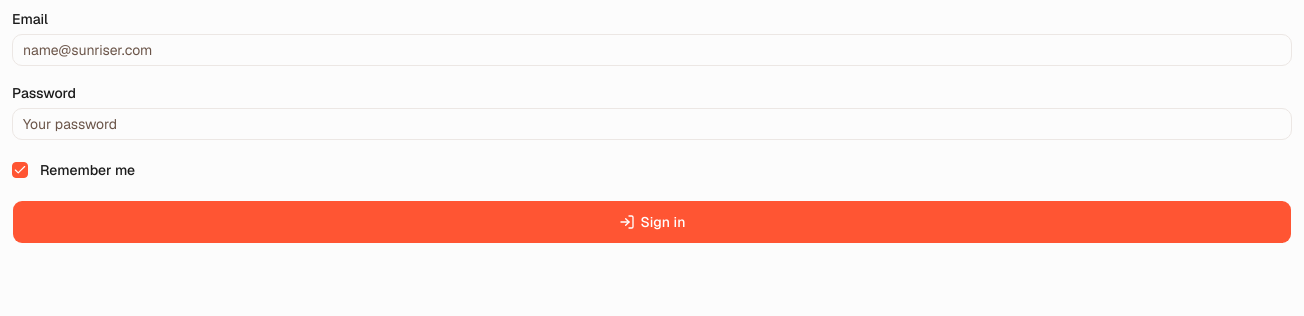
Scenario: LoginForm — 429 rate limiting › shows a friendly rate-limit message instead of the raw SDK string
The image size is (1304, 316).
Type "user@sunriser.com" into the field labelled "Email" at (652, 50), box 12,34 -> 1292,66
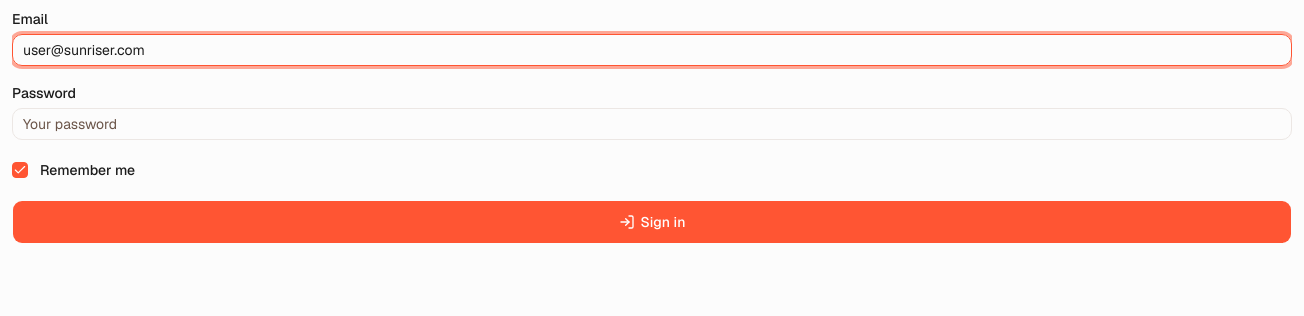
Type "password" into the password field labelled "Password" at (652, 124), box 12,108 -> 1292,140
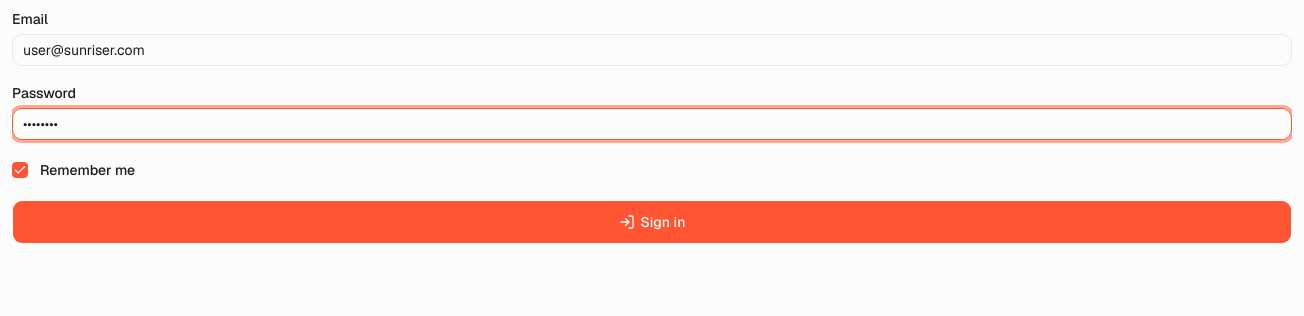
Click the button "Sign in" at (652, 222), box 12,200 -> 1292,244
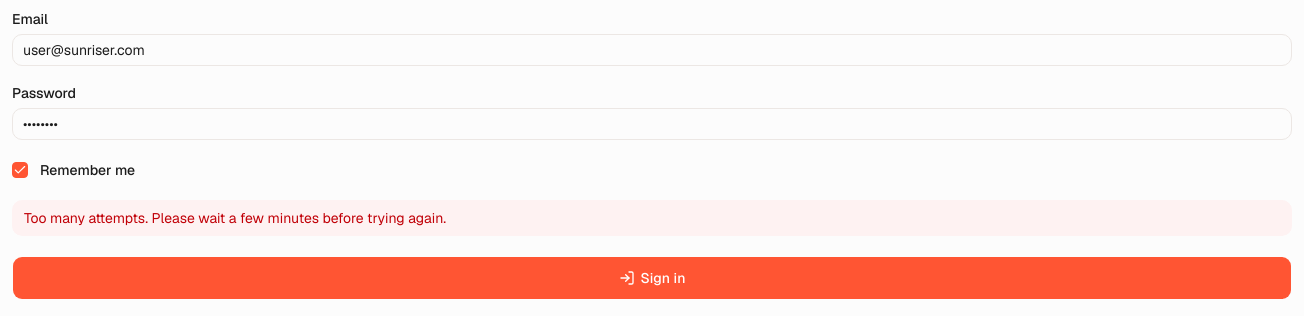
Expected: the message shows "Too many attempts", 24,209 -> 446,227
